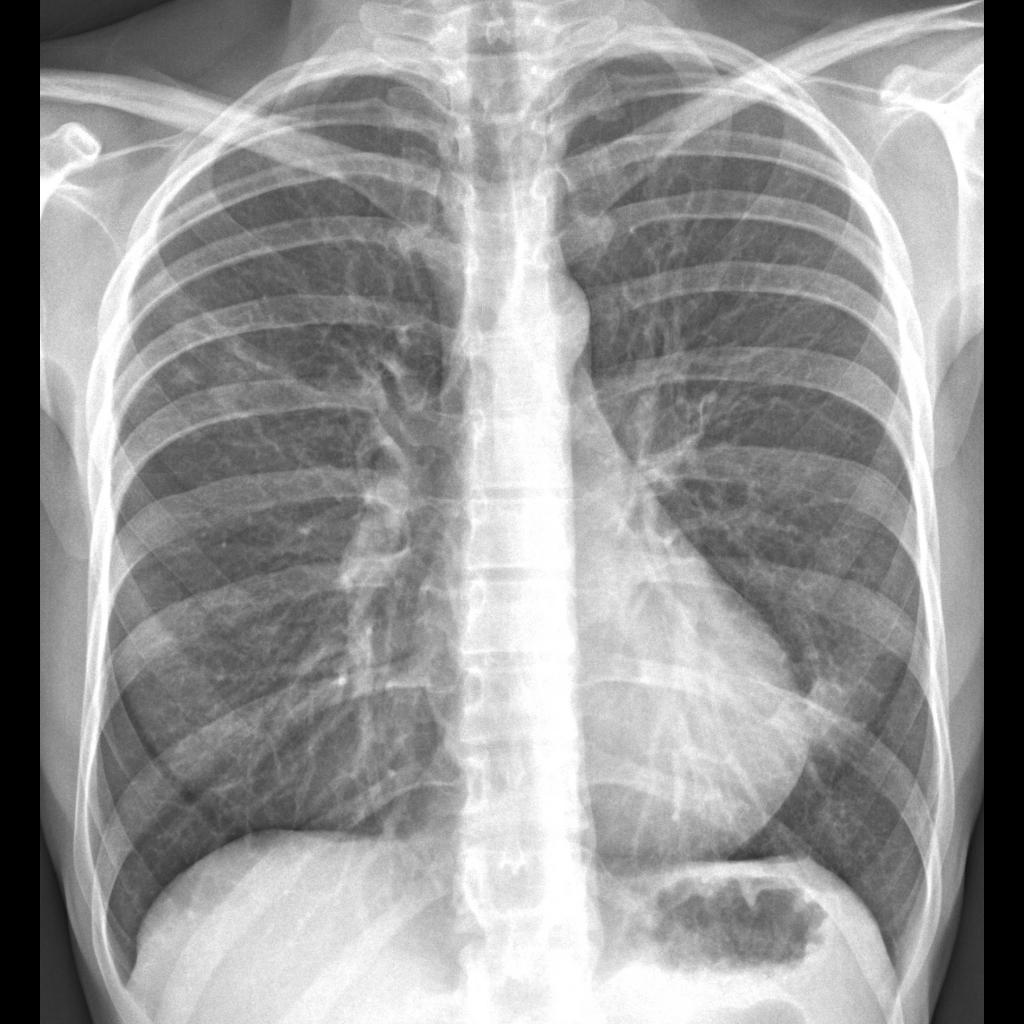Nodule: (792, 658, 862, 738), (191, 351, 255, 409)
